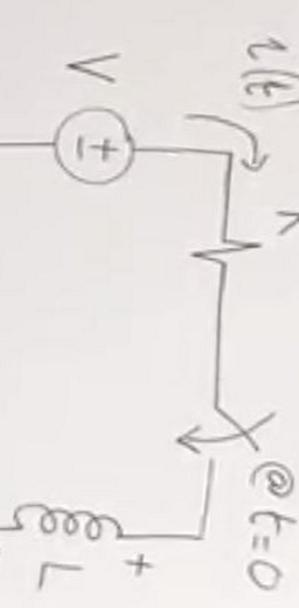Battery: (38, 97, 148, 207)
